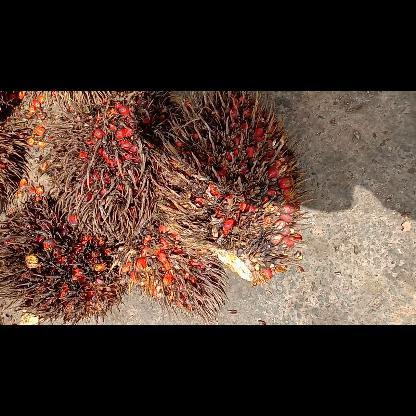Terlalu masak: (148, 91, 318, 289), (40, 91, 184, 243), (0, 186, 134, 324), (108, 212, 232, 324)
